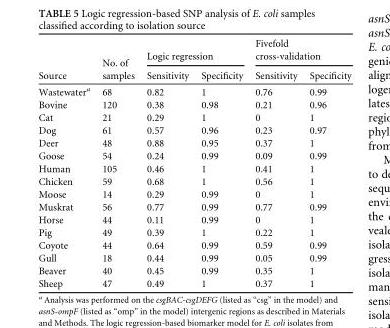table: (37, 37, 350, 288)
table column: (37, 37, 95, 288), (139, 37, 194, 288), (194, 37, 248, 288), (248, 37, 302, 288), (302, 37, 350, 288), (95, 37, 139, 288)
table column header: (37, 37, 350, 82)
table row: (37, 37, 350, 65), (37, 65, 350, 82), (37, 82, 350, 98), (37, 110, 350, 123), (37, 123, 350, 136), (37, 136, 350, 149), (37, 161, 350, 174), (37, 174, 350, 187), (37, 187, 350, 200), (37, 212, 350, 225), (37, 225, 350, 238), (37, 238, 350, 251), (37, 251, 350, 264), (37, 98, 350, 110), (37, 149, 350, 161), (37, 200, 350, 212), (37, 264, 350, 276), (37, 276, 350, 288)
table spanning cell: (139, 37, 248, 65), (248, 37, 350, 65), (37, 37, 95, 82), (95, 37, 139, 82)
